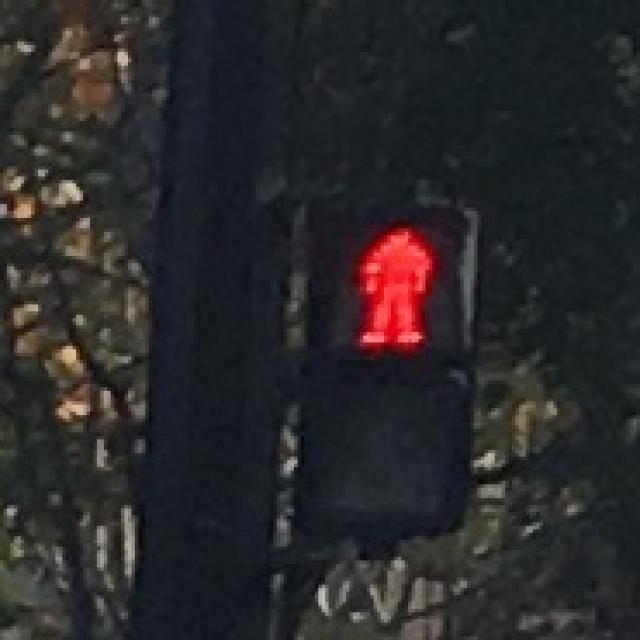red-crossing: (321, 201, 458, 356)
